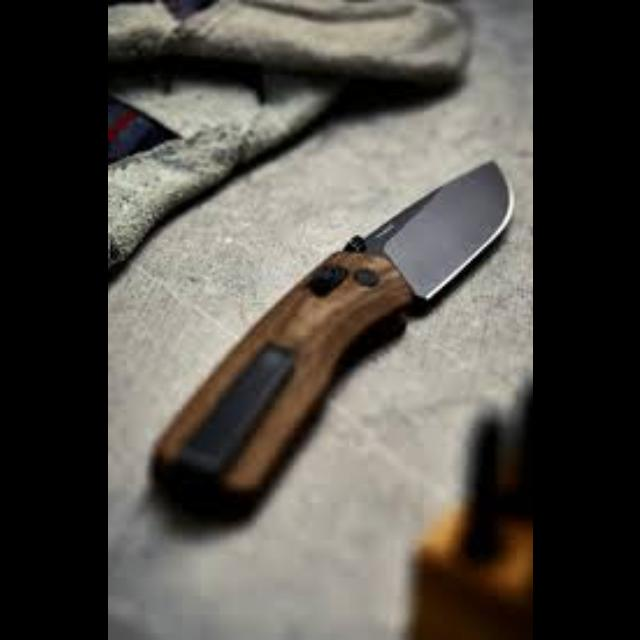Knife: (150, 156, 514, 518)
